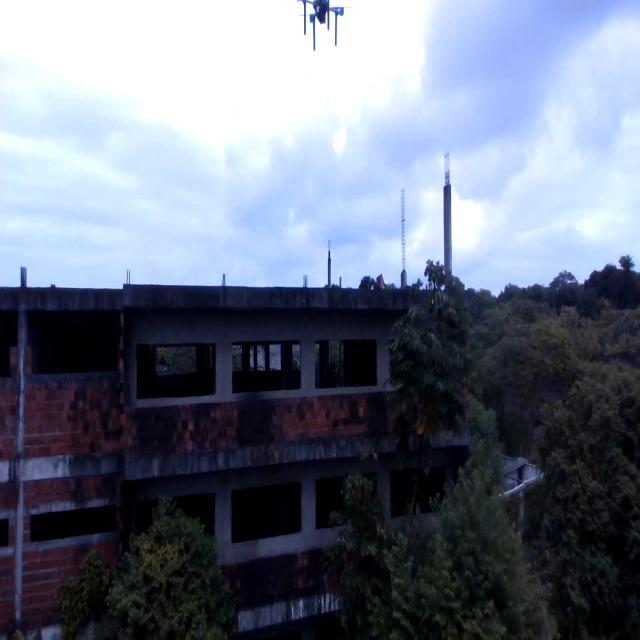-uav-: (299, 0, 349, 59)
